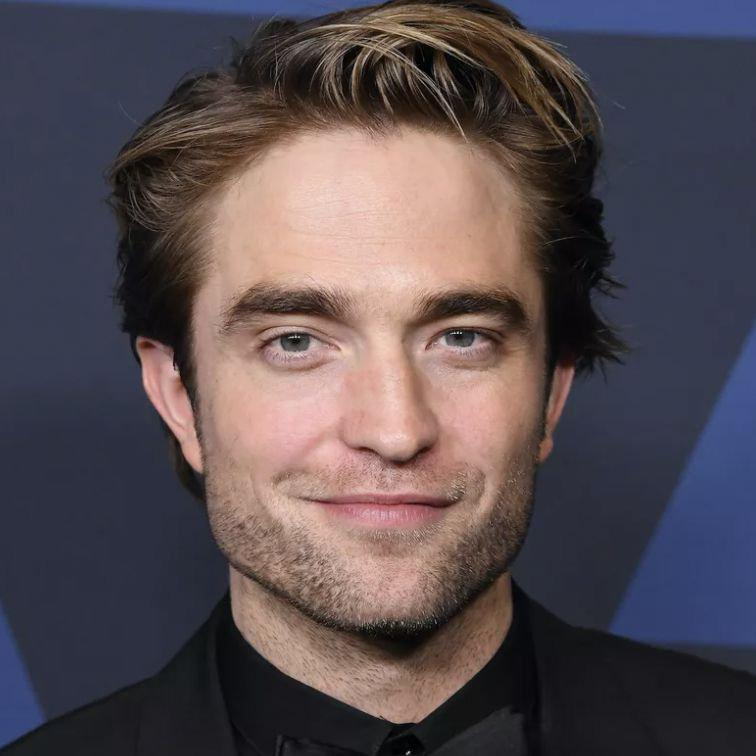Sober: (204, 150, 541, 579)
